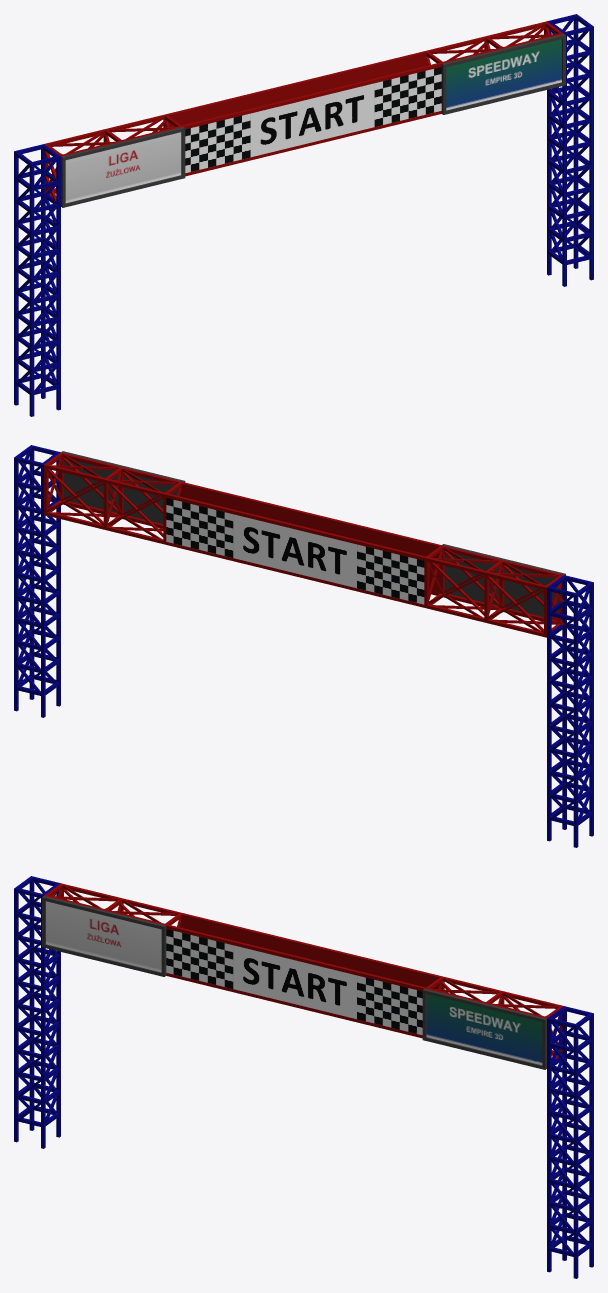
Rendered from startLine.glb.
3 views of the same model, one above another, from view 1: azimuth 30°, elevation 25°; view 2: azimuth 150°, elevation 25°; view 3: azimuth 330°, elevation 25° (orthographic).
Parts seen in each view (by area): view 1: Starting Line_Starting Sign Mat 1_0, Starting Line_Start Texture_0, Starting Line_Starting Sign Mat 2_0, Starting Line_Ad 1_0, Starting Line_Ad 2_0, Starting Line_Starting Sign Mat 3_0; view 2: Starting Line_Starting Sign Mat 1_0, Starting Line_Starting Sign Mat 2_0, Starting Line_Start Texture_0, Starting Line_Starting Sign Mat 3_0; view 3: Starting Line_Starting Sign Mat 1_0, Starting Line_Start Texture_0, Starting Line_Starting Sign Mat 2_0, Starting Line_Ad 2_0, Starting Line_Ad 1_0, Starting Line_Starting Sign Mat 3_0.
Part boxes in pixels (x1=…): Starting Line_Starting Sign Mat 1_0: x1=14, y1=14, x2=593, y2=416; Starting Line_Start Texture_0: x1=185, y1=67, x2=441, y2=173; Starting Line_Starting Sign Mat 2_0: x1=43, y1=21, x2=563, y2=202; Starting Line_Ad 1_0: x1=65, y1=132, x2=181, y2=203; Starting Line_Ad 2_0: x1=446, y1=39, x2=561, y2=110; Starting Line_Starting Sign Mat 3_0: x1=61, y1=34, x2=565, y2=207; Starting Line_Starting Sign Mat 1_0: x1=14, y1=445, x2=593, y2=847; Starting Line_Starting Sign Mat 2_0: x1=44, y1=452, x2=564, y2=637; Starting Line_Start Texture_0: x1=166, y1=498, x2=424, y2=604; Starting Line_Starting Sign Mat 3_0: x1=61, y1=451, x2=565, y2=619; Starting Line_Starting Sign Mat 1_0: x1=14, y1=876, x2=593, y2=1278; Starting Line_Start Texture_0: x1=166, y1=929, x2=422, y2=1035; Starting Line_Starting Sign Mat 2_0: x1=44, y1=883, x2=563, y2=1059; Starting Line_Ad 2_0: x1=426, y1=994, x2=542, y2=1065; Starting Line_Ad 1_0: x1=46, y1=901, x2=161, y2=972; Starting Line_Starting Sign Mat 3_0: x1=42, y1=896, x2=546, y2=1069.
Size of the model in its own units: 371 by 159 by 21.69.
Materials: 6 (3 with a texture image).
